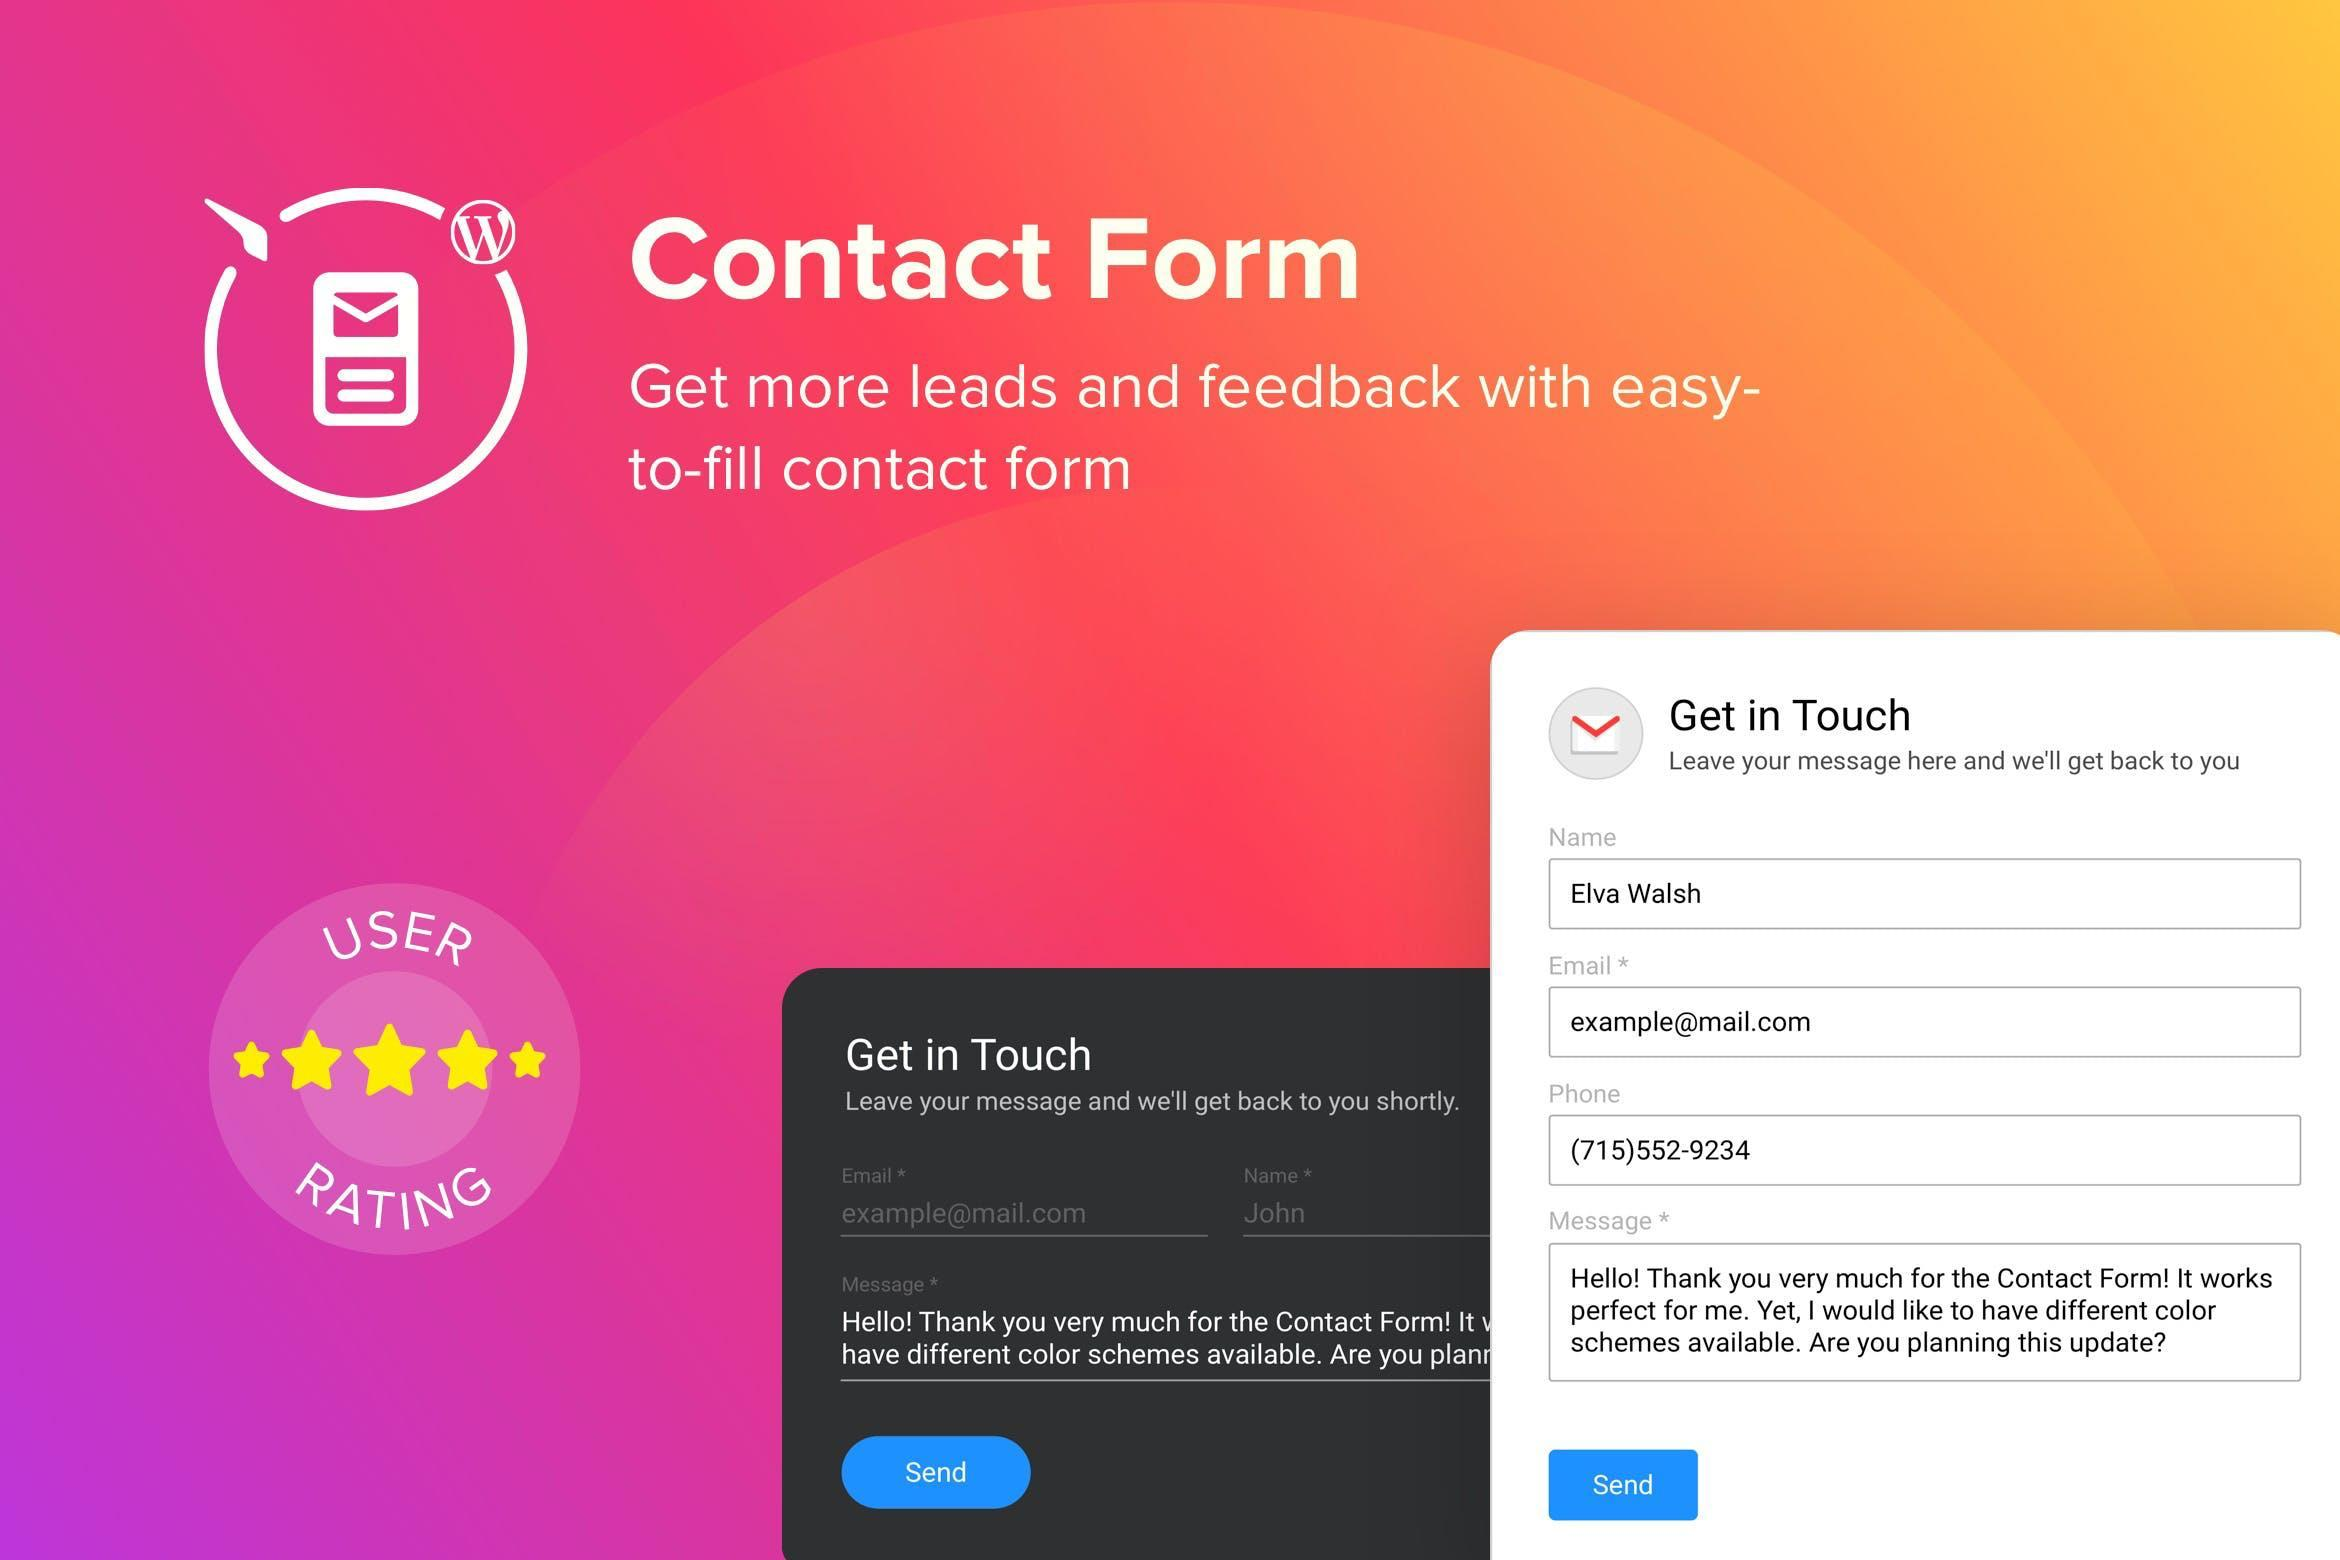button: (841, 1431, 1039, 1515), (1548, 1450, 1703, 1523)
input: (1551, 855, 2303, 937), (1555, 987, 2303, 1067), (1548, 1113, 2307, 1189)
label: (836, 1020, 1118, 1088), (1671, 684, 1927, 745), (1529, 938, 1640, 987), (1541, 1207, 1684, 1238), (822, 1267, 947, 1302), (1537, 1074, 1645, 1114), (822, 1158, 926, 1194), (1233, 1156, 1323, 1194), (1544, 822, 1628, 855)
slider: (1544, 681, 1645, 789)
